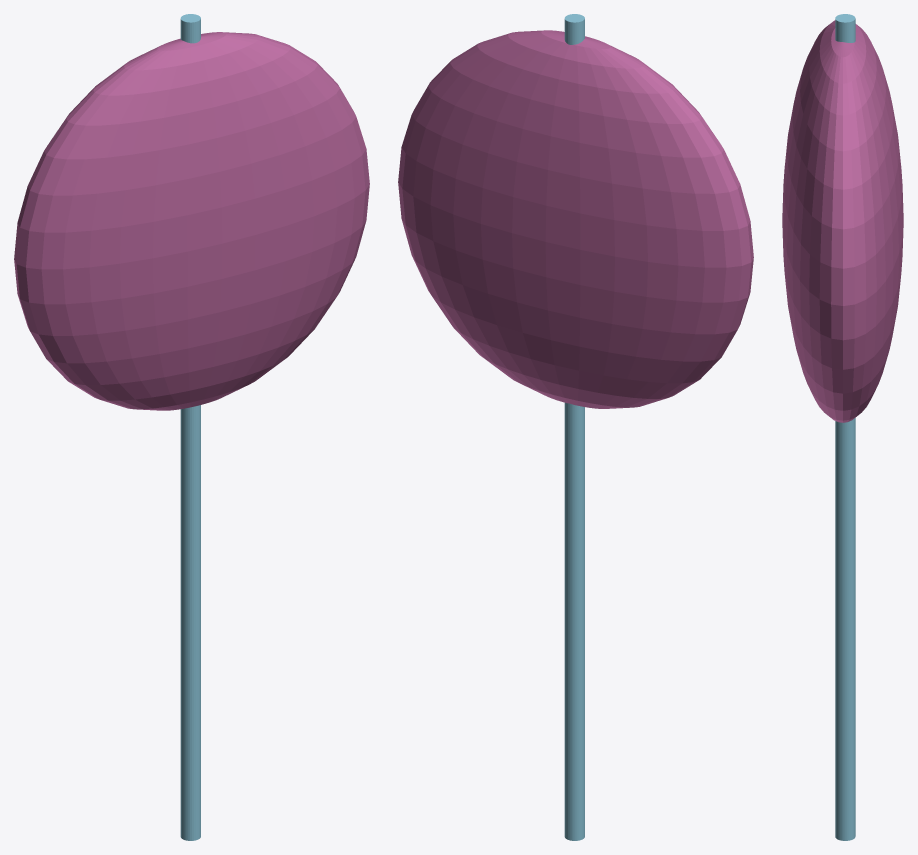
File: lolly.glb
3 renders of one model, left to right at view 1: azimuth 30°, elevation 25°; view 2: azimuth 150°, elevation 25°; view 3: azimuth 270°, elevation 25°, orthographic.
Parts seen in each view (by area): view 1: Sphere, Cylinder; view 2: Sphere, Cylinder; view 3: Sphere, Cylinder.
Part boxes in pixels (x1,y1,x2,y2): Sphere: [14, 32, 369, 410]; Cylinder: [180, 14, 200, 840]; Sphere: [398, 30, 753, 408]; Cylinder: [564, 14, 584, 840]; Sphere: [782, 20, 903, 422]; Cylinder: [835, 14, 855, 840].
Bounding box in the file's own units: 2 × 4.46 × 0.6.
